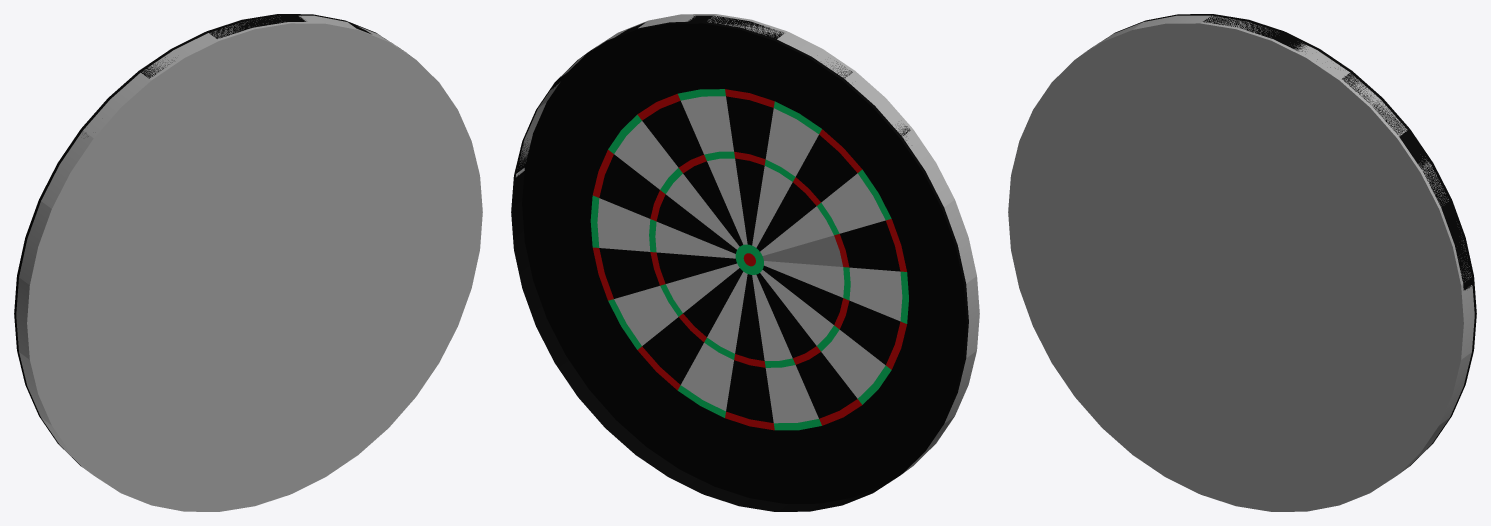
File: DartboardTesting.fbx
3 views of the same model, side by side, from view 1: azimuth 30°, elevation 25°; view 2: azimuth 150°, elevation 25°; view 3: azimuth 330°, elevation 25° (orthographic).
Parts seen in each view (by area): view 1: border9, border12, border14, border5, border11, border8, border1, border20, border16, border18, border6, border3 (+50 smaller); view 2: dartboardBaseMesh, internal14, border9, border12, border14, border5, border11, border20, border8; view 3: border18, border6, border1, dartboardBaseMesh, border4, border10, border20, border5, border13, border15, border12, border11 (+50 smaller).
Boxes of the visible parts, x1,y1,x2,y2 form: border9: (41, 131, 141, 226); border12: (83, 72, 182, 177); border14: (19, 201, 112, 285); border5: (142, 33, 229, 136); border11: (16, 277, 97, 359); border8: (19, 332, 112, 425); border1: (280, 15, 358, 101); border20: (209, 16, 290, 108); border16: (41, 378, 141, 475); border18: (327, 26, 415, 122); border6: (412, 175, 482, 255); border3: (219, 426, 290, 511); dartboardBaseMesh: (511, 15, 968, 511); internal14: (765, 235, 842, 265); border9: (902, 129, 954, 207); border12: (845, 71, 912, 136); border14: (944, 200, 976, 283); border5: (777, 31, 854, 78); border11: (966, 276, 979, 357); border20: (707, 14, 786, 37); border8: (944, 351, 976, 423); border18: (1308, 73, 1407, 177); border6: (1393, 280, 1474, 359); border1: (1261, 39, 1349, 136); dartboardBaseMesh: (1090, 14, 1476, 466); border4: (1349, 137, 1448, 226); border10: (1378, 332, 1471, 425); border20: (1200, 15, 1277, 108); border5: (1132, 15, 1210, 101); border13: (1378, 207, 1471, 285); border15: (1349, 378, 1449, 475); border12: (1075, 22, 1163, 122); border11: (1008, 175, 1078, 255).
Size of the model in its own units: 48.46 by 48.46 by 2.38.
